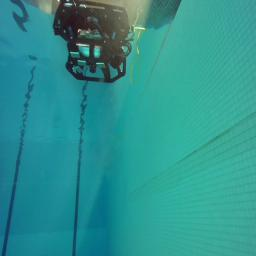Side: (53, 2, 130, 84)
